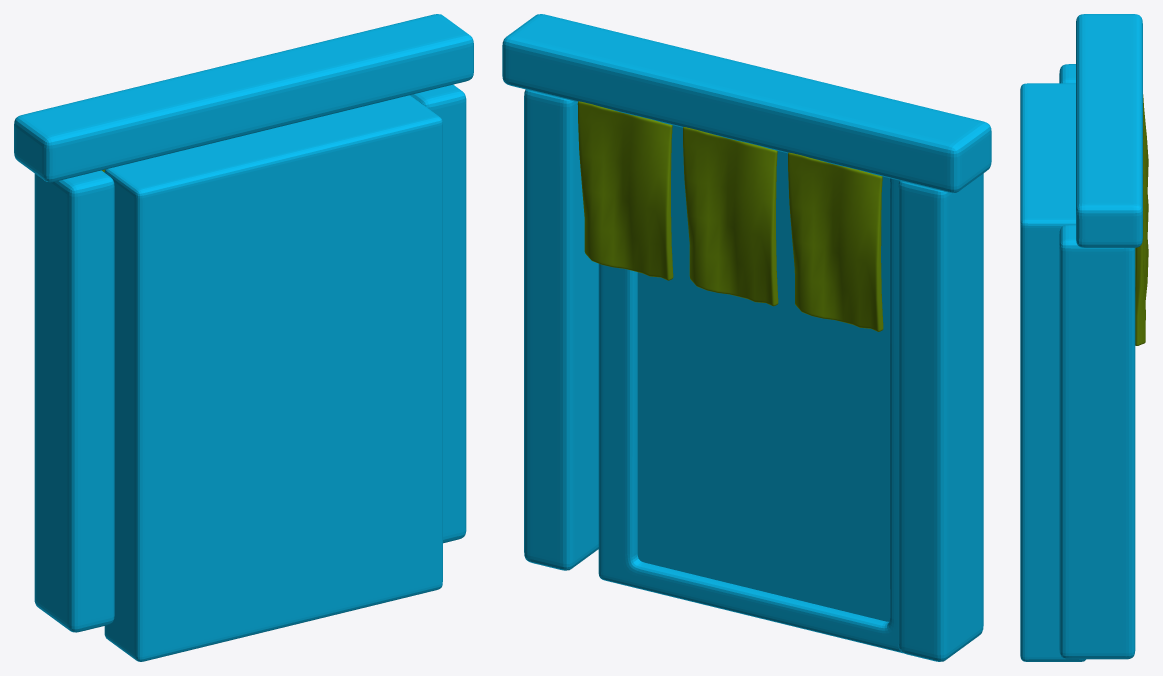
Rendered from SM_Wood_Door_05.fbx.
3 renders of one model, left to right at view 1: azimuth 30°, elevation 25°; view 2: azimuth 150°, elevation 25°; view 3: azimuth 270°, elevation 25°, orthographic. The views are drawn at different scales.
Parts seen in each view (by area): view 1: SM_Wood_Door_05; view 2: SM_Wood_Door_05; view 3: SM_Wood_Door_05.
Boxes of the visible parts, box(x1,y1,x2,y2) form: SM_Wood_Door_05: box(14, 14, 473, 661); SM_Wood_Door_05: box(502, 14, 991, 661); SM_Wood_Door_05: box(1020, 14, 1148, 661).
Bounding box in the file's own units: 1.33 × 1.53 × 0.3684.
